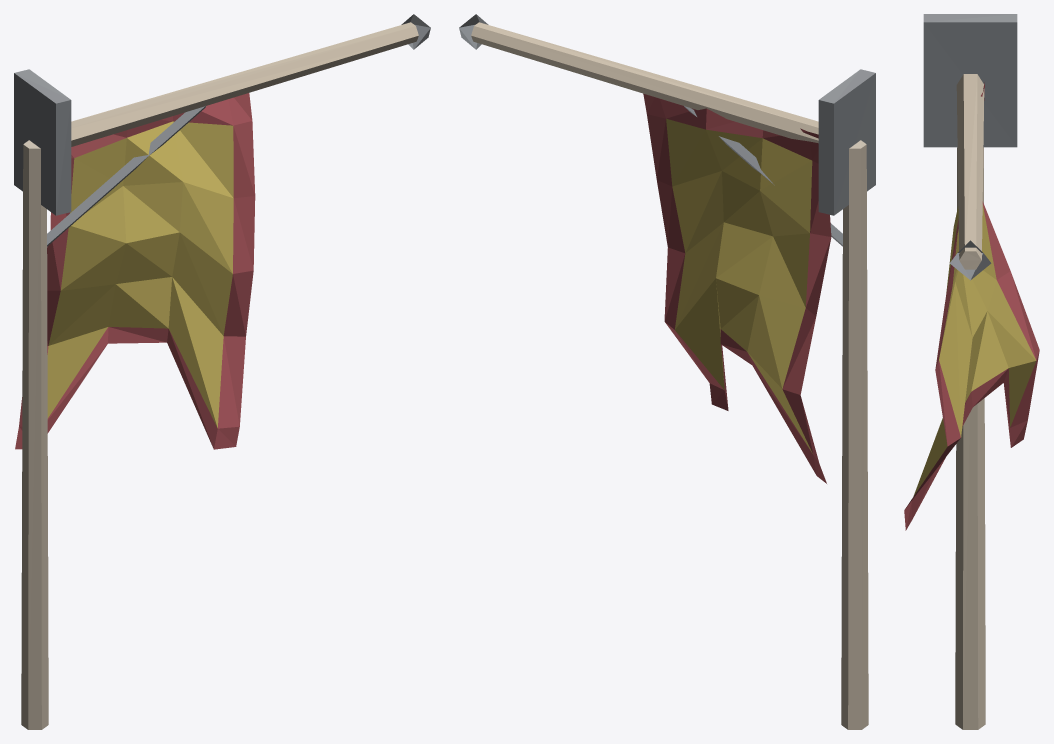
File: flag.swallowtail.jinyan__pole.horizontal.xiecheng__armHang.glb
3 renders of one model, left to right at view 1: azimuth 30°, elevation 25°; view 2: azimuth 150°, elevation 25°; view 3: azimuth 270°, elevation 25°, orthographic. The views are drawn at different scales.
Visible parts, largest first — view 1: flag.swallowtail.jinyan; view 2: flag.swallowtail.jinyan; view 3: flag.swallowtail.jinyan.
Part boxes in pixels (x1,y1,x2,y2): flag.swallowtail.jinyan: [14, 14, 430, 729]; flag.swallowtail.jinyan: [459, 14, 875, 729]; flag.swallowtail.jinyan: [904, 14, 1039, 729].
Size of the model in its own units: 2.12 by 3.18 by 0.5501.
